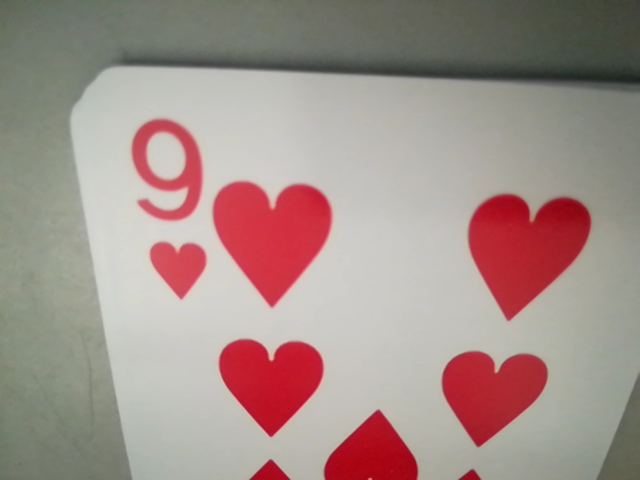hx 9: (122, 119, 211, 302)
